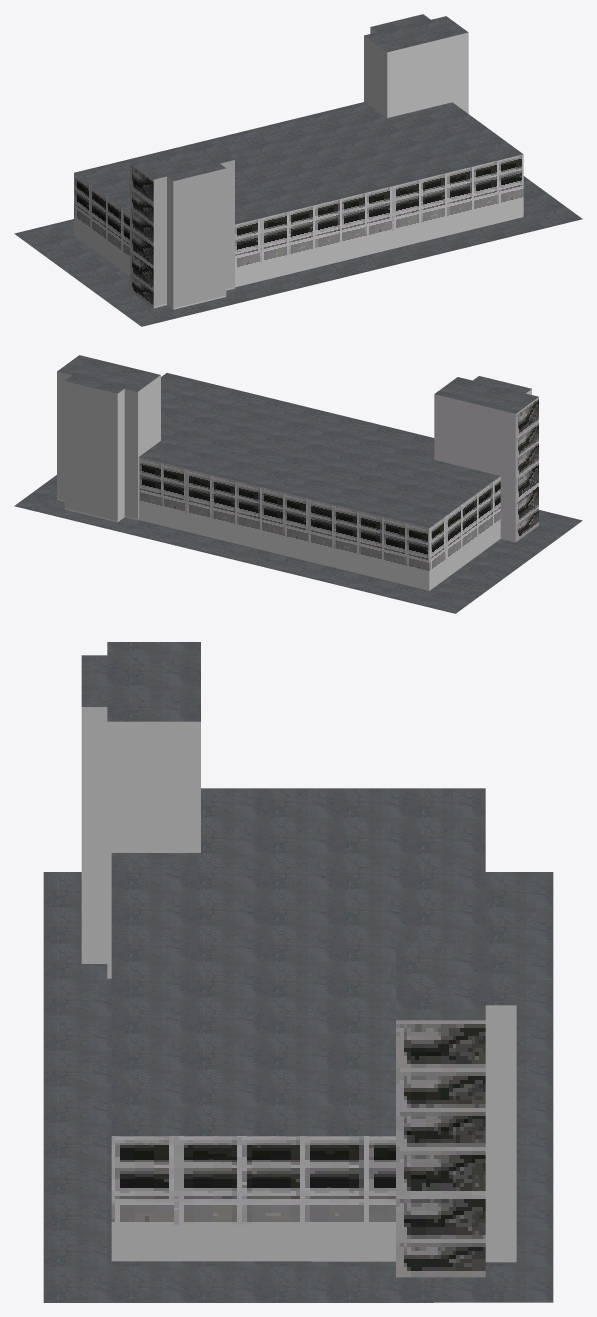
Rendered from lodotel01_lvs.obj.
3 renders of one model, top to bottom at view 1: azimuth 30°, elevation 25°; view 2: azimuth 150°, elevation 25°; view 3: azimuth 270°, elevation 25°, orthographic. The views are drawn at different scales.
Visible parts, largest first — view 1: LODotel01_lvs; view 2: LODotel01_lvs; view 3: LODotel01_lvs.
Boxes of the visible parts, bbox=[...] form: LODotel01_lvs: bbox=[14, 14, 582, 326]; LODotel01_lvs: bbox=[14, 355, 582, 613]; LODotel01_lvs: bbox=[43, 642, 553, 1302].
Bounding box in the file's own units: 80.01 × 22.36 × 40.01.
